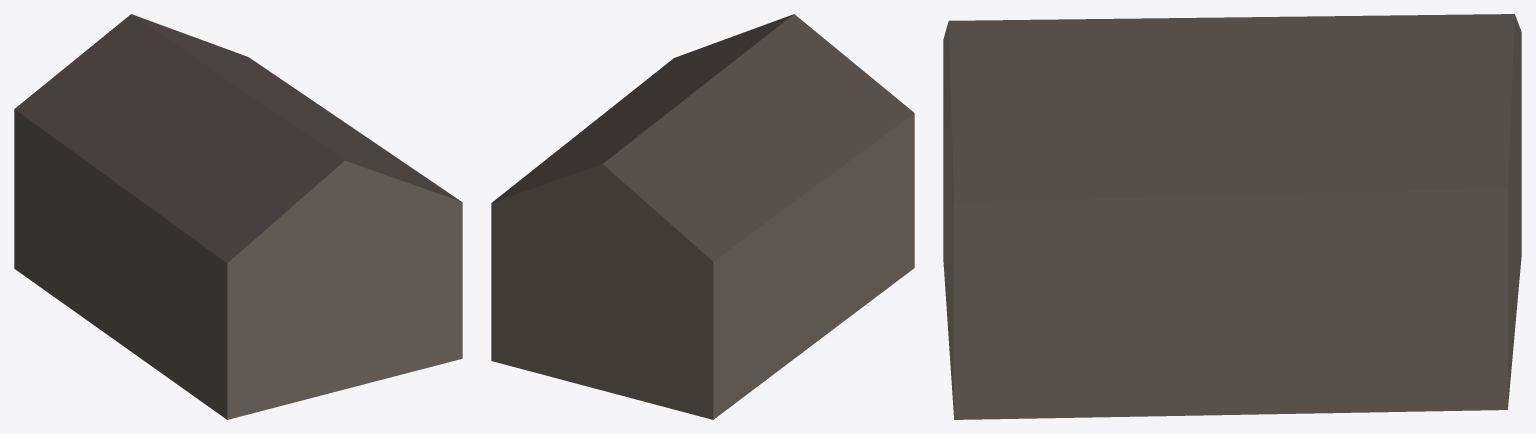
The picture shows the model from 3 angles, left to right: view 1: azimuth 30°, elevation 25°; view 2: azimuth 150°, elevation 25°; view 3: azimuth 270°, elevation 25°; orthographic projection. The views are drawn at different scales.
Visible parts, largest first — view 1: HP-w859078987; view 2: HP-w859078987; view 3: HP-w859078987.
Boxes of the visible parts, x1,y1,x2,y2 form: HP-w859078987: (14,14,462,419); HP-w859078987: (491,14,914,419); HP-w859078987: (943,14,1521,419).
Size of the model in its own units: 14.67 by 13.16 by 21.69.
